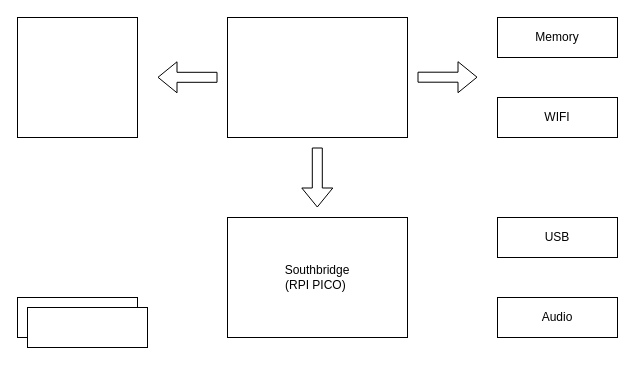
Image size: 635x365. Some labels were removed from this diagram. The box of each missing label's shape, as (x1, y1, x2, y2) in pixels:
CPU (STM32F401CCU6 BlackPill / RPI PICO 16MB) (Includes Northbridge): (226, 16, 408, 138)
Dedicated Graphics (ESP32 GPU): (16, 16, 138, 138)
